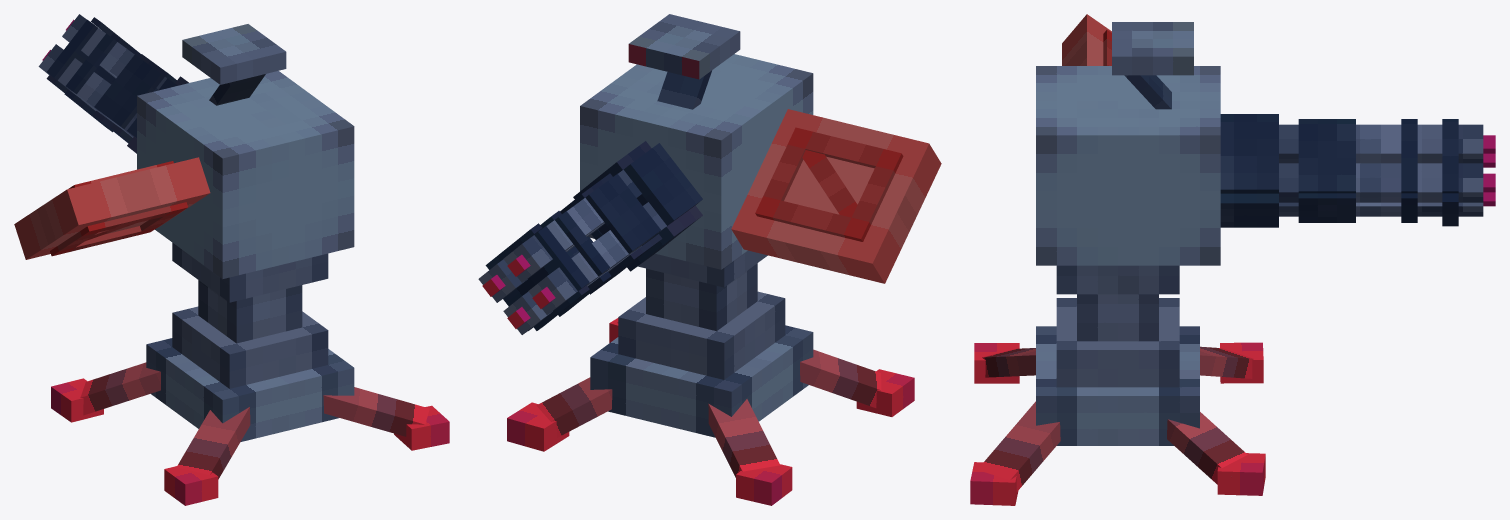
The model's file is torret.fbx.
The picture shows the model from 3 angles, left to right: view 1: azimuth 30°, elevation 25°; view 2: azimuth 150°, elevation 25°; view 3: azimuth 270°, elevation 25°; orthographic projection. The views are drawn at different scales.
Parts seen in each view (by area): view 1: body, Body link legs, cube_22, body bottom, sensor, body mid, body top, legs top left, legs top right, legs bot right, cube_7, foot bot right_1 (+9 smaller); view 2: body, cube_22, Body link legs, body bottom, sensor, body mid, cube_14, legs bot right, cube_7, legs top right, cube_1, cube_23 (+18 smaller); view 3: body, Body link legs, body bottom, cube_2, cube_33, sensor, cube_11, cube_10, body mid, body top, legs top left, foot bot left (×2) (+13 smaller).
Boxes of the visible parts, x1,y1,x2,y2 form: body: (137, 71, 354, 279); Body link legs: (146, 338, 354, 441); cube_22: (14, 157, 210, 259); body bottom: (172, 306, 328, 388); sensor: (182, 24, 286, 84); body mid: (198, 280, 302, 343); body top: (172, 242, 328, 302); legs top left: (323, 387, 429, 436); legs top right: (177, 407, 250, 479); legs bot right: (80, 362, 160, 415); cube_7: (94, 54, 164, 128); foot bot right_1: (164, 466, 218, 505); body: (580, 54, 813, 269); cube_22: (731, 109, 941, 283); Body link legs: (590, 325, 813, 437); body bottom: (618, 291, 785, 379); sensor: (628, 14, 740, 79); body mid: (646, 263, 757, 331); cube_14: (623, 143, 702, 225); legs bot right: (708, 399, 779, 477); cube_7: (585, 174, 660, 253); legs top right: (800, 349, 881, 407); cube_1: (528, 202, 666, 314); cube_23: (755, 196, 870, 241); body: (1036, 66, 1220, 265); Body link legs: (1036, 326, 1199, 445); body bottom: (1056, 298, 1179, 387); cube_2: (1279, 163, 1483, 202); cube_33: (1279, 124, 1483, 163); sensor: (1112, 22, 1193, 75); cube_11: (1220, 122, 1278, 193); cube_10: (1298, 124, 1355, 193); body mid: (1077, 294, 1158, 341); body top: (1056, 265, 1179, 294); legs top left: (977, 401, 1060, 491); foot bot left (×2): (970, 453, 1265, 505).
Bounding box in the file's own units: 126 × 133 × 160.
1 material, 1 textured.
